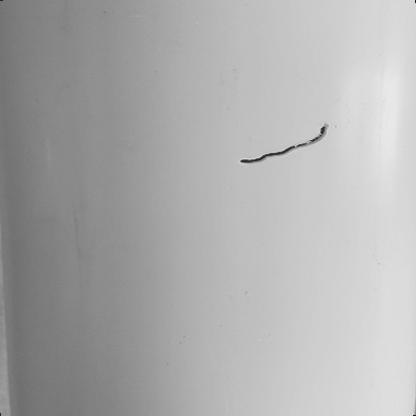fengxi: (239, 124, 329, 165)
